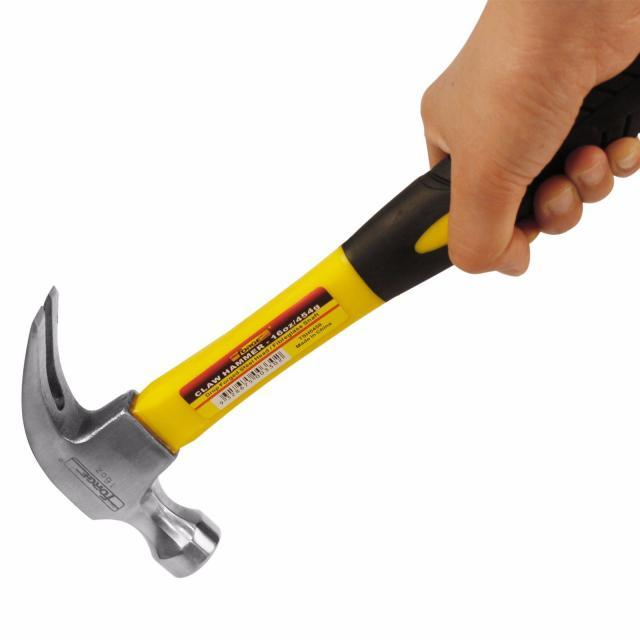hammer: (14, 54, 640, 591)
